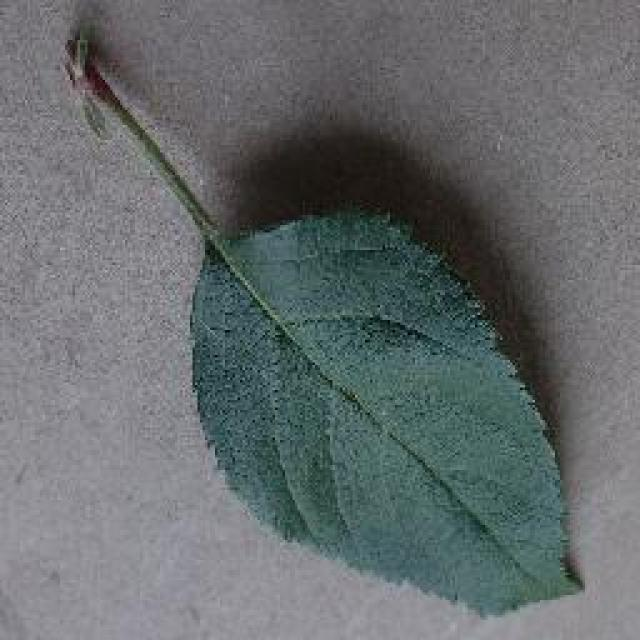apple healthy: (60, 22, 588, 618)
